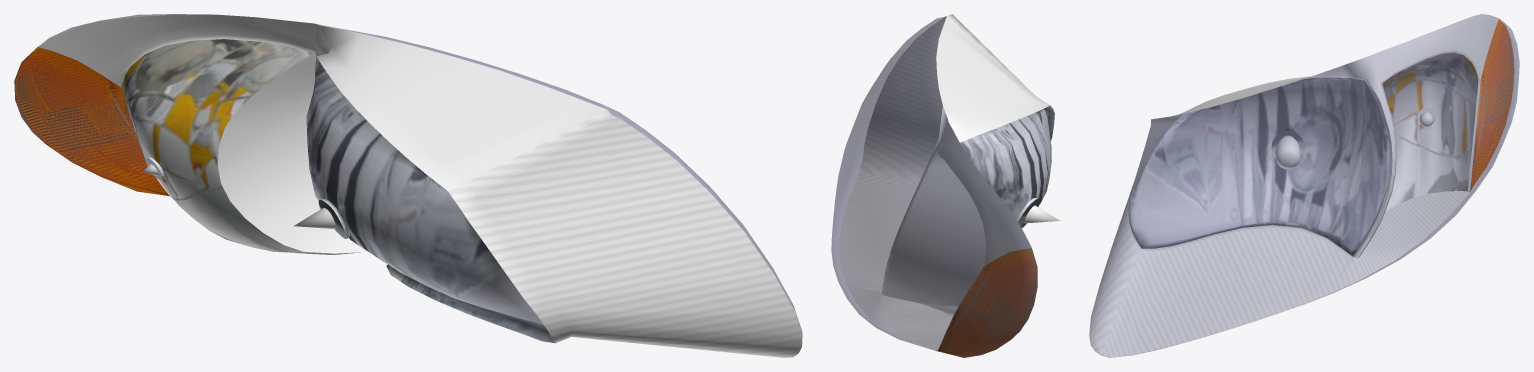
3 renders of one model, left to right at view 1: azimuth 30°, elevation 25°; view 2: azimuth 150°, elevation 25°; view 3: azimuth 270°, elevation 25°, orthographic. The views are drawn at different scales.
Parts seen in each view (by area): view 1: N664_9A_061B_L_2_N_N664_9A_061B_L, N664_9A_061B_L_N664_9A_061B_L_1_DTaSI; view 2: N664_9A_061B_L_2_N_N664_9A_061B_L, N664_9A_061B_L_N664_9A_061B_L_1_DTaSI; view 3: N664_9A_061B_L_N664_9A_061B_L_1_DTaSI, N664_9A_061B_L_2_N_N664_9A_061B_L.
Part boxes in pixels (bbox=[...]): N664_9A_061B_L_2_N_N664_9A_061B_L: bbox=[14, 14, 802, 357]; N664_9A_061B_L_N664_9A_061B_L_1_DTaSI: bbox=[41, 14, 802, 332]; N664_9A_061B_L_2_N_N664_9A_061B_L: bbox=[839, 14, 1060, 357]; N664_9A_061B_L_N664_9A_061B_L_1_DTaSI: bbox=[831, 16, 1037, 357]; N664_9A_061B_L_N664_9A_061B_L_1_DTaSI: bbox=[1089, 14, 1519, 357]; N664_9A_061B_L_2_N_N664_9A_061B_L: bbox=[1089, 14, 1514, 357].
Size of the model in its own units: 33.96 by 17.71 by 34.48.
